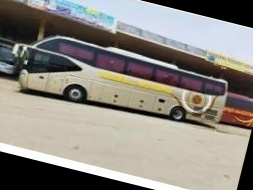bus: (15, 28, 235, 138)
